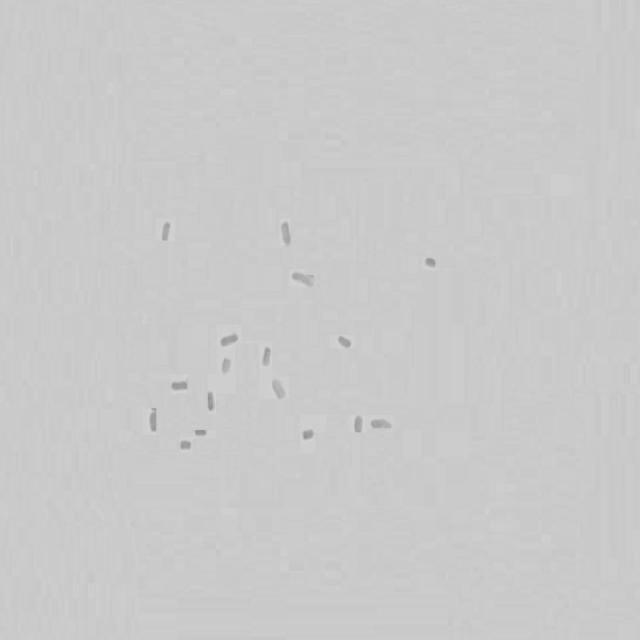E-coli: (267, 374, 289, 406), (291, 269, 317, 292), (277, 217, 296, 247), (159, 216, 177, 244), (216, 329, 240, 349), (147, 406, 161, 440), (336, 332, 355, 355), (259, 341, 273, 371), (370, 418, 391, 438), (168, 378, 194, 394), (424, 255, 440, 279), (203, 391, 218, 416), (302, 425, 318, 447), (221, 357, 234, 381), (354, 413, 367, 435), (175, 437, 194, 452), (195, 427, 210, 437)
